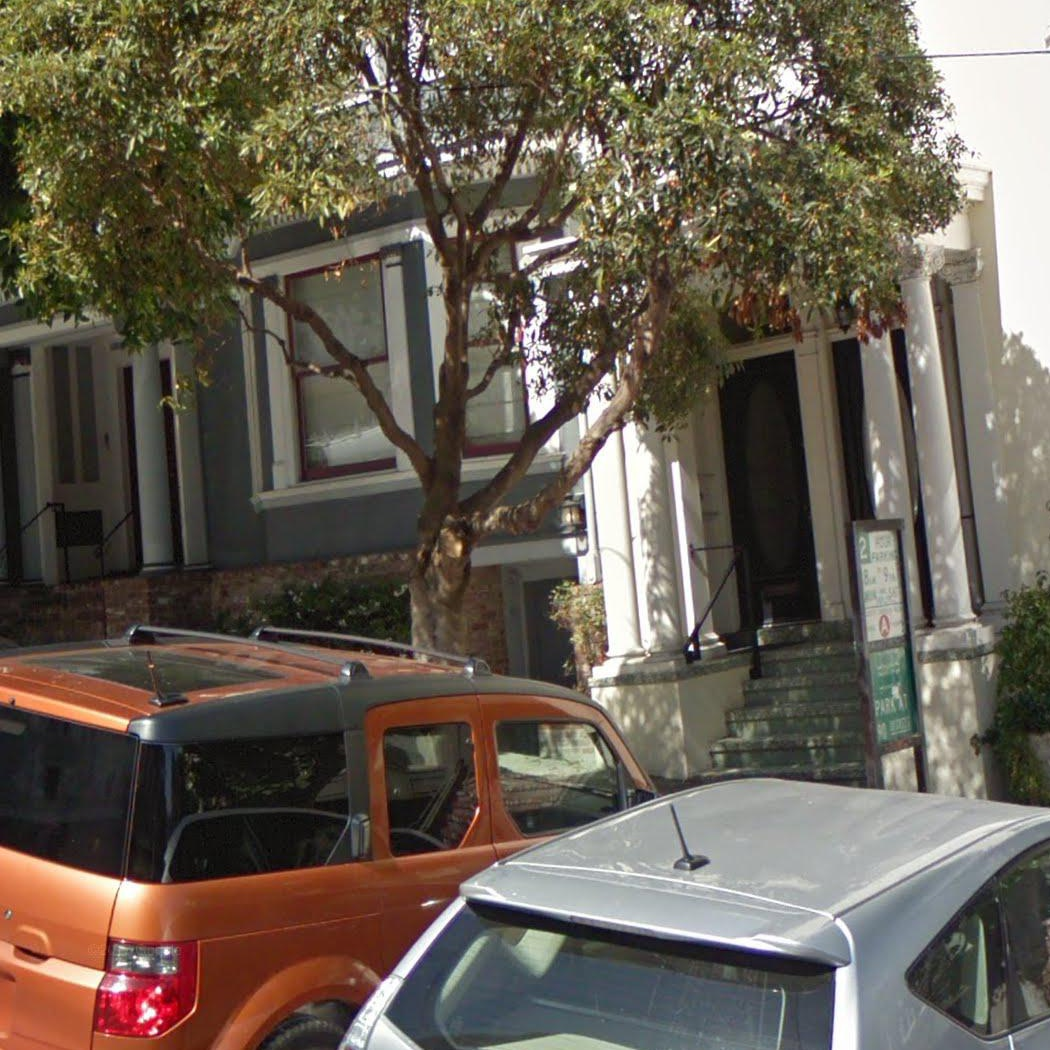2 Hour Parking: (847, 523, 911, 645)
